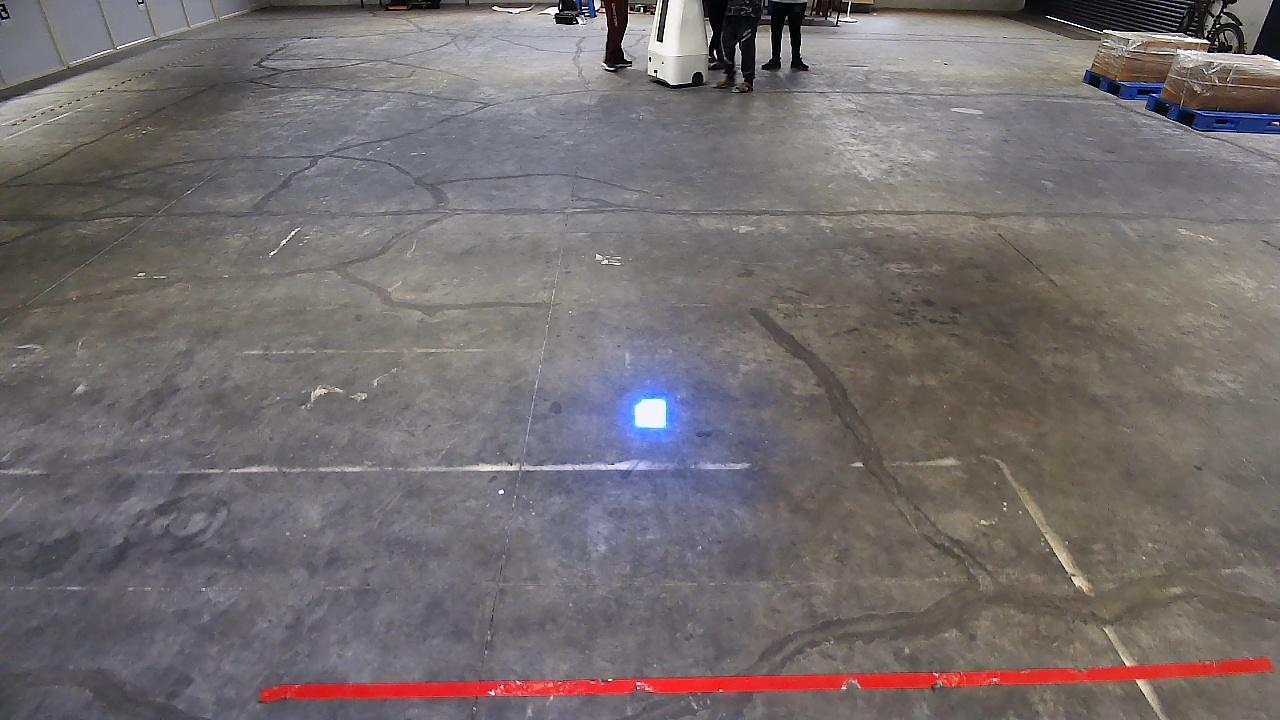red_line: (259, 659, 1275, 699)
